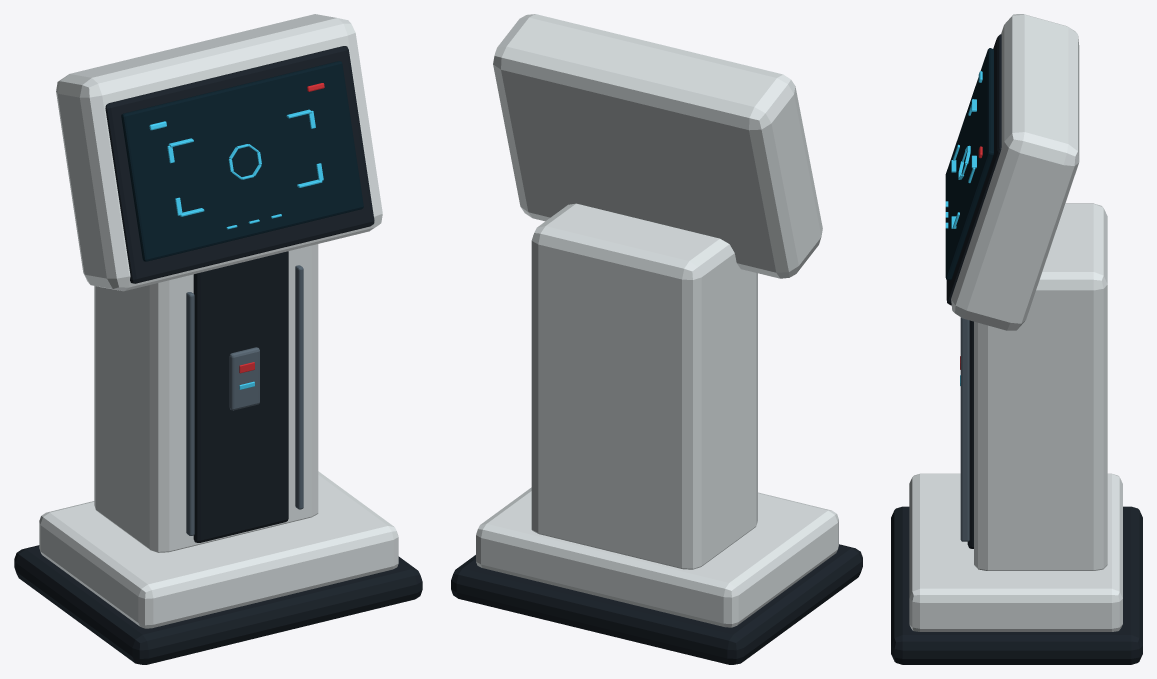
Rendered from analysis_terminal.obj.
3 renders of one model, left to right at view 1: azimuth 30°, elevation 25°; view 2: azimuth 150°, elevation 25°; view 3: azimuth 270°, elevation 25°, orthographic. The views are drawn at different scales.
Visible parts, largest first — view 1: 11_screen_panel, 02_column, 01_base_armour, 03_column_front_insert, 09_angled_screen_housing, 00_floor_sled, 10_screen_bezel, 05_column_rib_0.132, 04_column_rib_-0.132, 06_status_badge; view 2: 02_column, 09_angled_screen_housing, 01_base_armour, 00_floor_sled; view 3: 02_column, 09_angled_screen_housing, 01_base_armour, 00_floor_sled, 11_screen_panel, 05_column_rib_0.132, 10_screen_bezel, 03_column_front_insert.
Boxes of the visible parts, x1=… form: 11_screen_panel: x1=121, y1=61, x2=363, y2=261; 02_column: x1=94, y1=244, x2=318, y2=552; 01_base_armour: x1=39, y1=471, x2=398, y2=628; 03_column_front_insert: x1=193, y1=251, x2=288, y2=542; 09_angled_screen_housing: x1=56, y1=14, x2=382, y2=291; 00_floor_sled: x1=14, y1=545, x2=422, y2=664; 10_screen_bezel: x1=105, y1=46, x2=374, y2=283; 05_column_rib_0.132: x1=295, y1=265, x2=303, y2=509; 04_column_rib_-0.132: x1=186, y1=292, x2=194, y2=535; 06_status_badge: x1=229, y1=347, x2=259, y2=410; 02_column: x1=531, y1=203, x2=757, y2=569; 09_angled_screen_housing: x1=493, y1=14, x2=822, y2=278; 01_base_armour: x1=476, y1=487, x2=838, y2=627; 00_floor_sled: x1=451, y1=544, x2=862, y2=664; 02_column: x1=974, y1=203, x2=1107, y2=570; 09_angled_screen_housing: x1=951, y1=14, x2=1079, y2=330; 01_base_armour: x1=909, y1=473, x2=1122, y2=631; 00_floor_sled: x1=891, y1=506, x2=1142, y2=664; 11_screen_panel: x1=945, y1=48, x2=993, y2=280; 05_column_rib_0.132: x1=960, y1=317, x2=969, y2=541; 10_screen_bezel: x1=946, y1=34, x2=1001, y2=305; 03_column_front_insert: x1=967, y1=320, x2=973, y2=548.
Size of the model in its own units: 0.7 by 1.25 by 0.54.
